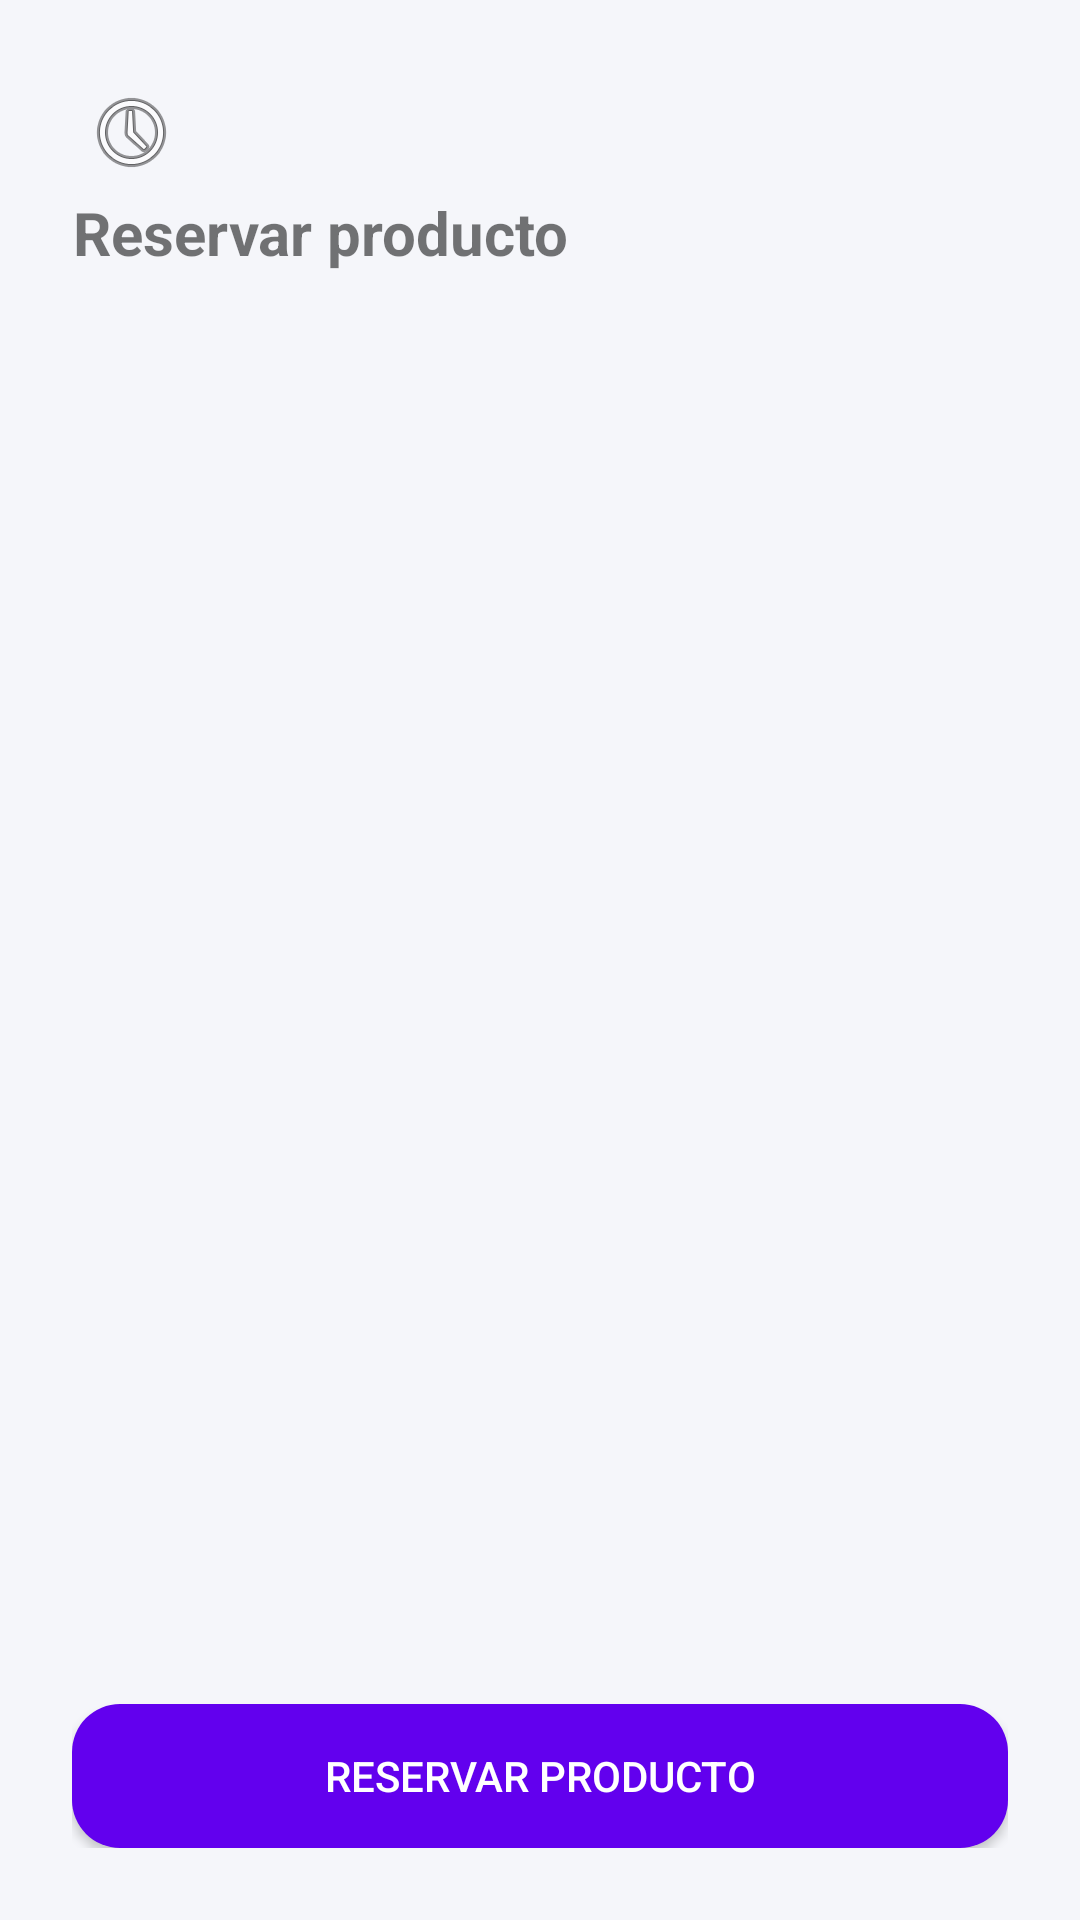

Screen size 1080×1920. Icon name, then its center in pixels as (x=x, y=y):
Ver historial: (x=131, y=132)
